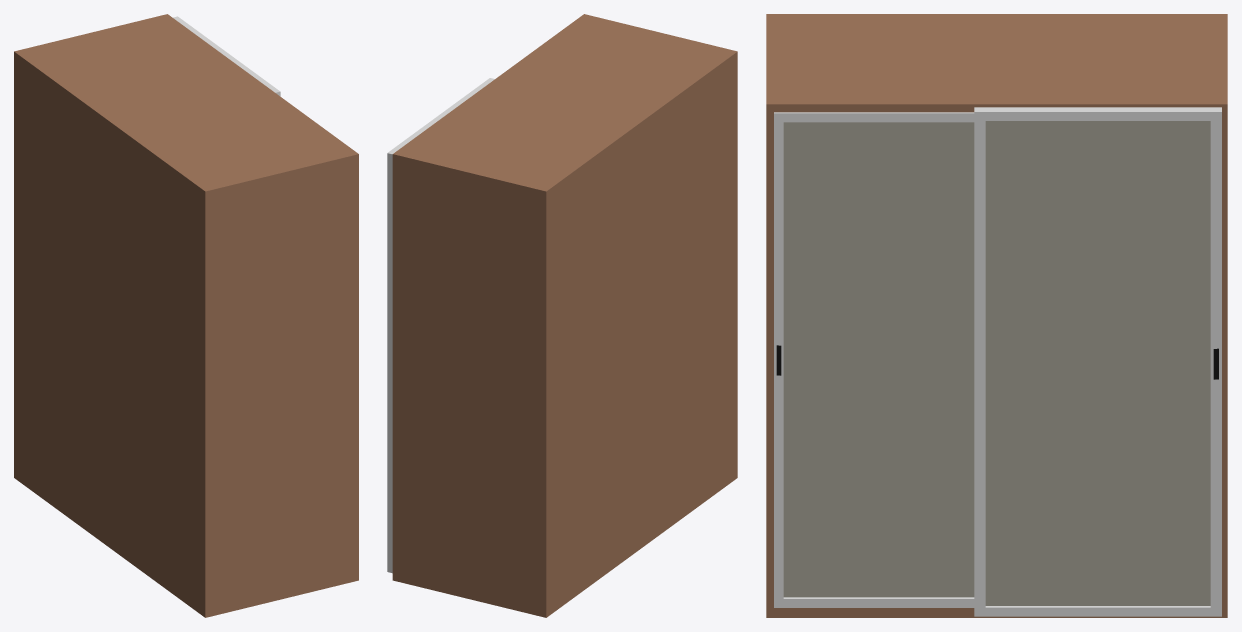
Rendered from Armario.fbx.
3 renders of one model, left to right at view 1: azimuth 30°, elevation 25°; view 2: azimuth 150°, elevation 25°; view 3: azimuth 270°, elevation 25°, orthographic. The views are drawn at different scales.
Parts seen in each view (by area): view 1: Armario+Shapekey; view 2: Armario+Shapekey; view 3: Armario+Shapekey.
Boxes of the visible parts, x1=… form: Armario+Shapekey: x1=14, y1=14, x2=358, y2=617; Armario+Shapekey: x1=387, y1=14, x2=737, y2=617; Armario+Shapekey: x1=766, y1=14, x2=1227, y2=617.
Size of the model in its own units: 0.6846 by 1.73 by 1.41.
